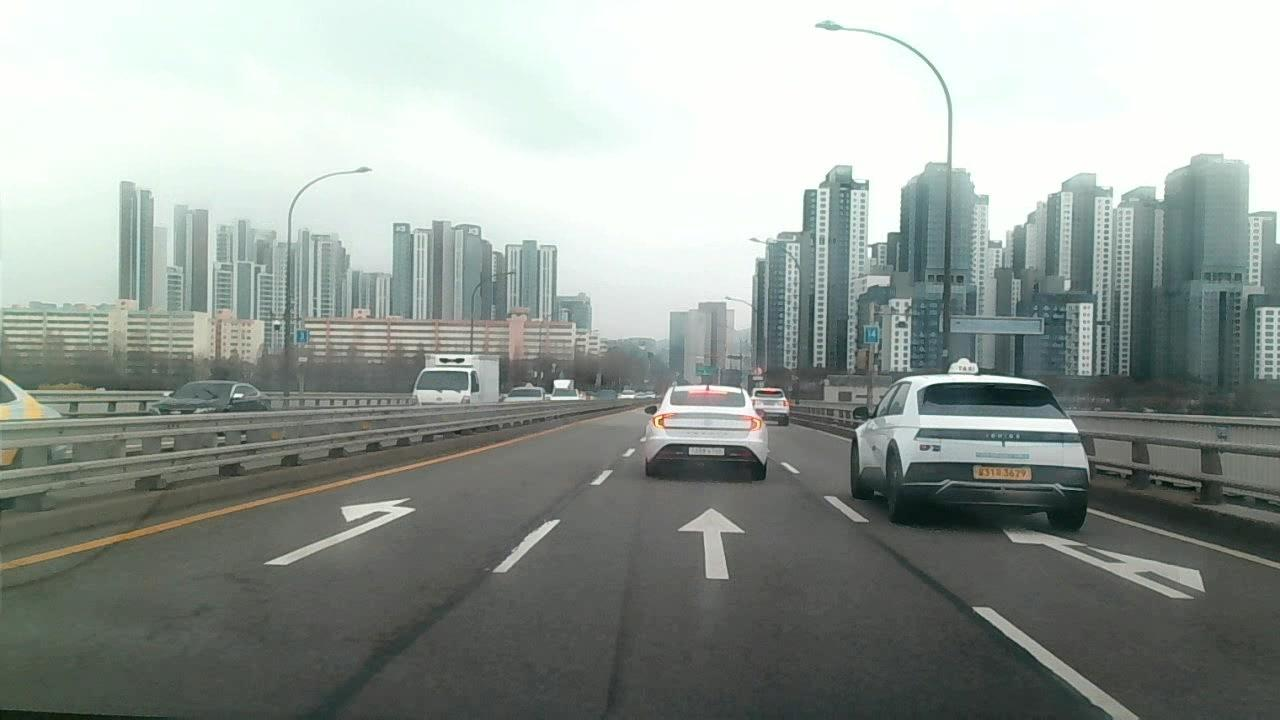vcrack: (311, 569, 481, 714), (524, 478, 597, 530)
